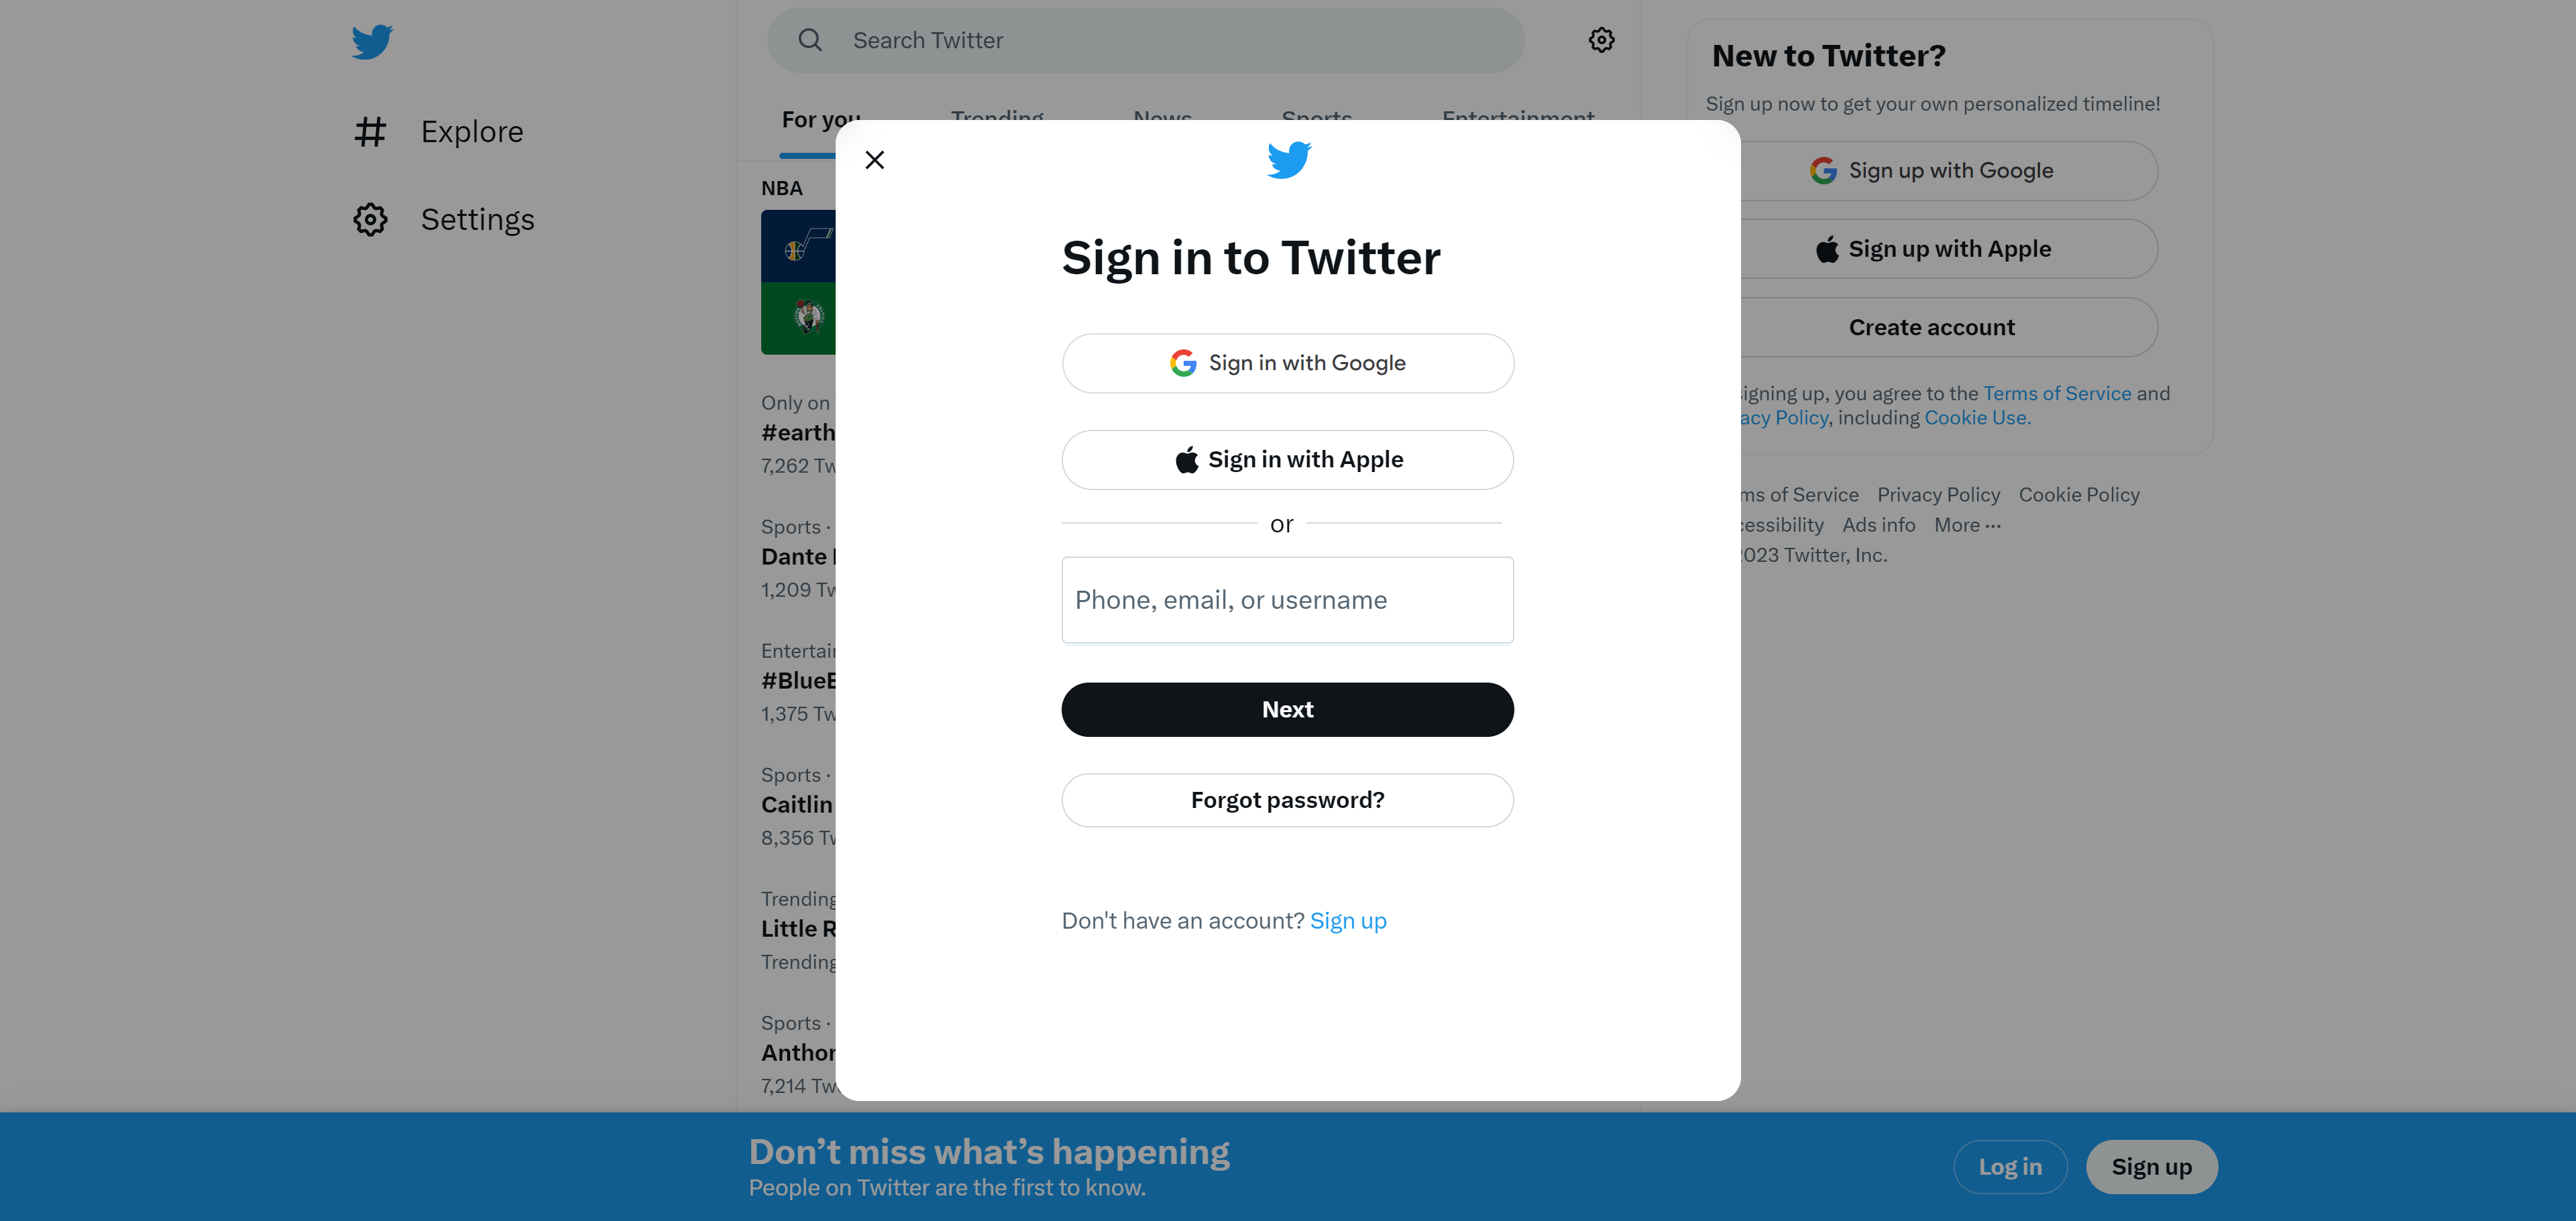login_button: (1061, 682, 1515, 736)
login_form: (1056, 551, 1520, 744)
